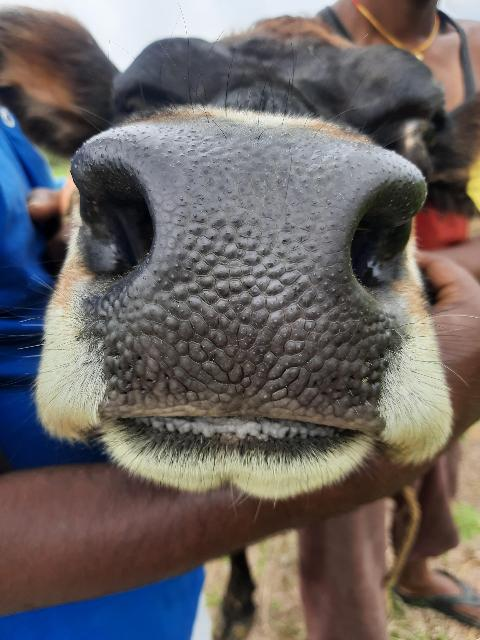Muzzle: (112, 132, 368, 426)
